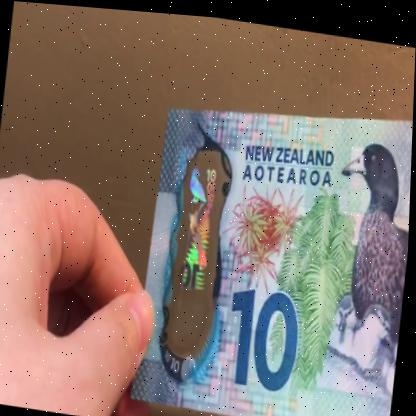10F: (172, 155, 225, 332)
